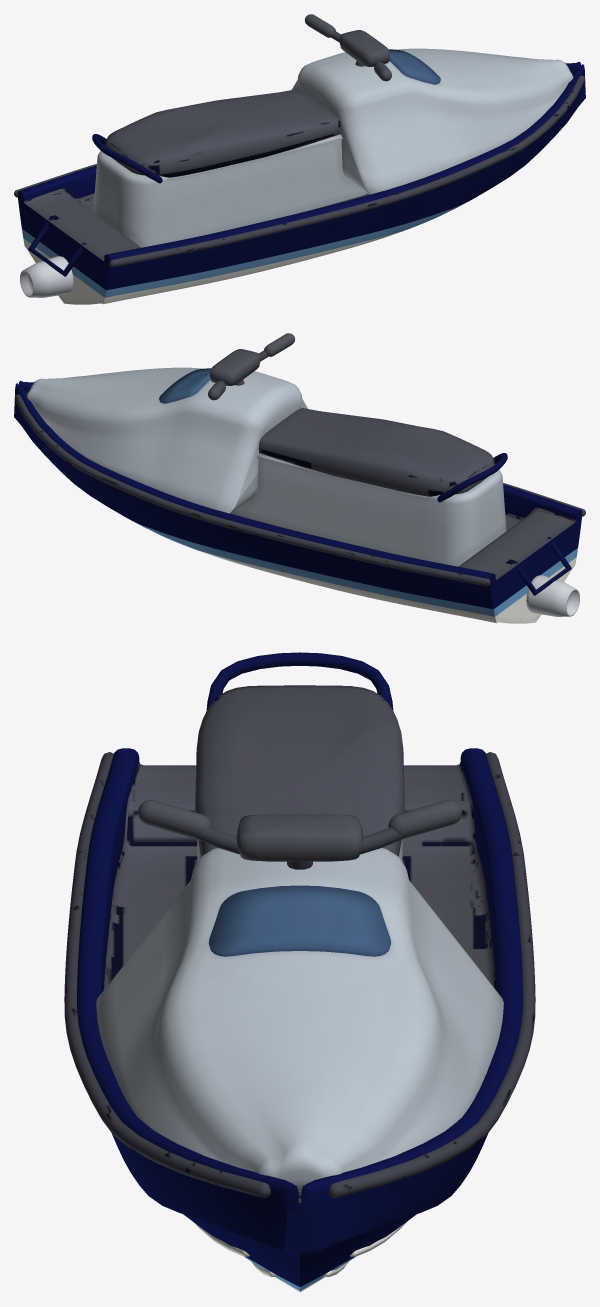
Rendered from sea-doo-gtx-170-2025.glb.
The picture shows the model from 3 angles, top to bottom: view 1: azimuth 30°, elevation 25°; view 2: azimuth 150°, elevation 25°; view 3: azimuth 270°, elevation 25°; orthographic projection. The views are drawn at different scales.
Visible parts, largest first — view 1: jet-ski_body, jet-ski_handlebar, jet-ski_jet_nozzle; view 2: jet-ski_body, jet-ski_handlebar, jet-ski_jet_nozzle; view 3: jet-ski_body, jet-ski_handlebar.
Boxes of the visible parts, left/top/right/bottom form: jet-ski_body: left=14, top=48, right=585, bottom=304; jet-ski_handlebar: left=305, top=14, right=391, bottom=81; jet-ski_jet_nozzle: left=20, top=256, right=73, bottom=297; jet-ski_body: left=14, top=367, right=585, bottom=623; jet-ski_handlebar: left=208, top=333, right=294, bottom=400; jet-ski_jet_nozzle: left=526, top=575, right=579, bottom=616; jet-ski_body: left=64, top=652, right=535, bottom=1292; jet-ski_handlebar: left=138, top=800, right=461, bottom=869.
Size of the model in its own units: 3.58 by 1.21 by 1.32.
4 materials, 1 textured.
